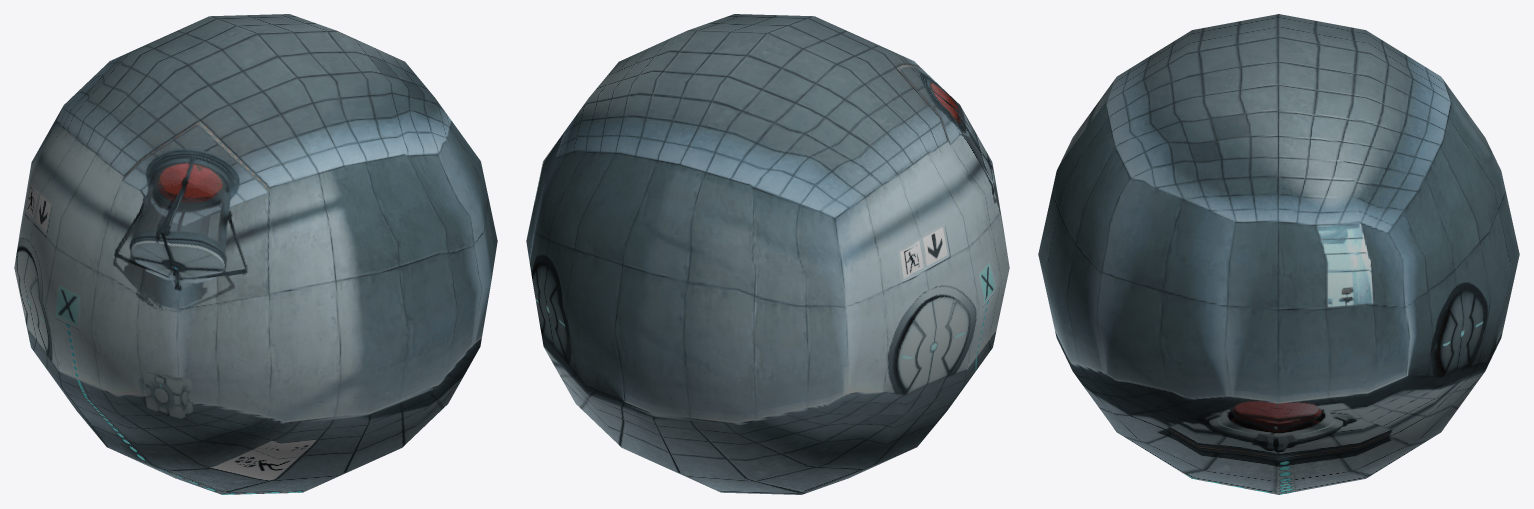
Rendered from cubemap.obj.
The picture shows the model from 3 angles, left to right: view 1: azimuth 30°, elevation 25°; view 2: azimuth 150°, elevation 25°; view 3: azimuth 270°, elevation 25°; orthographic projection.
Parts seen in each view (by area): view 1: Cube.002; view 2: Cube.002; view 3: Cube.002.
Boxes of the visible parts, box(x1,y1,x2,y2) form: Cube.002: box(14, 14, 497, 494); Cube.002: box(526, 14, 1009, 494); Cube.002: box(1038, 14, 1519, 494).
Size of the model in its own units: 0.3 by 0.3 by 0.3.
